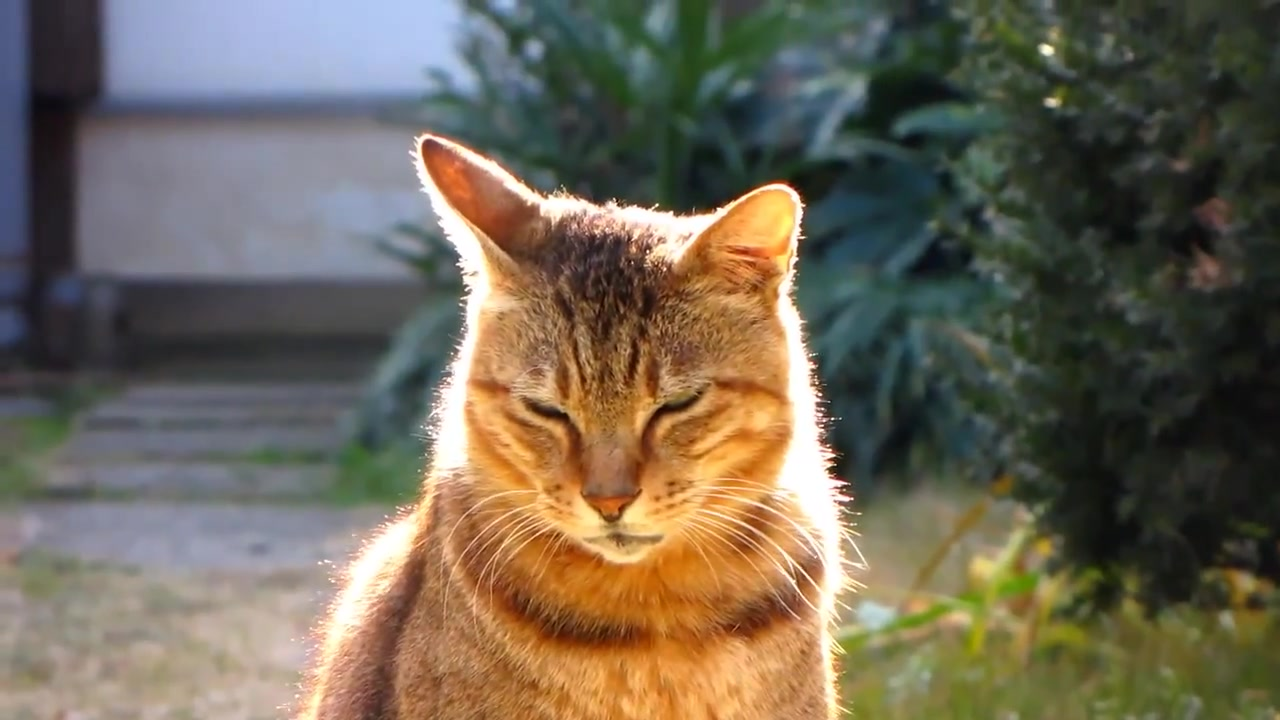cat: (295, 128, 847, 720)
